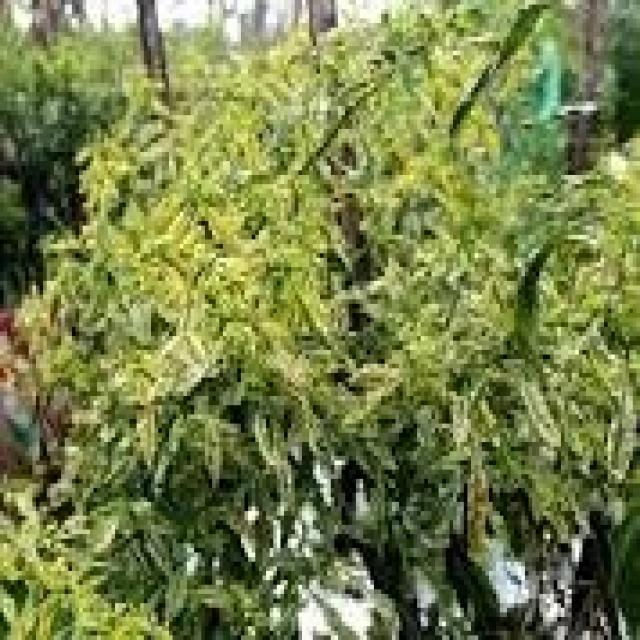virus_kuning: (23, 214, 278, 464)
